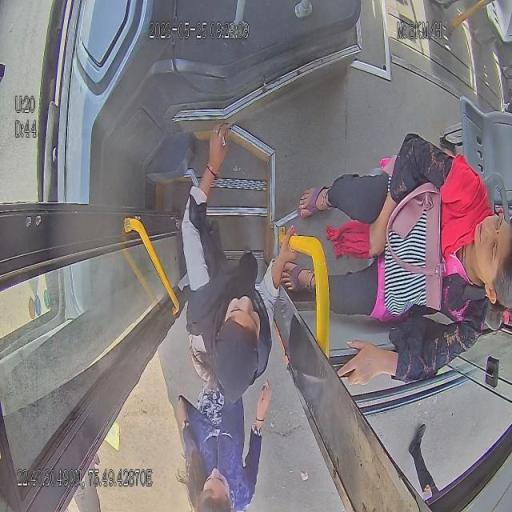persona: (280, 132, 512, 388), (180, 124, 298, 399), (173, 381, 304, 511)
